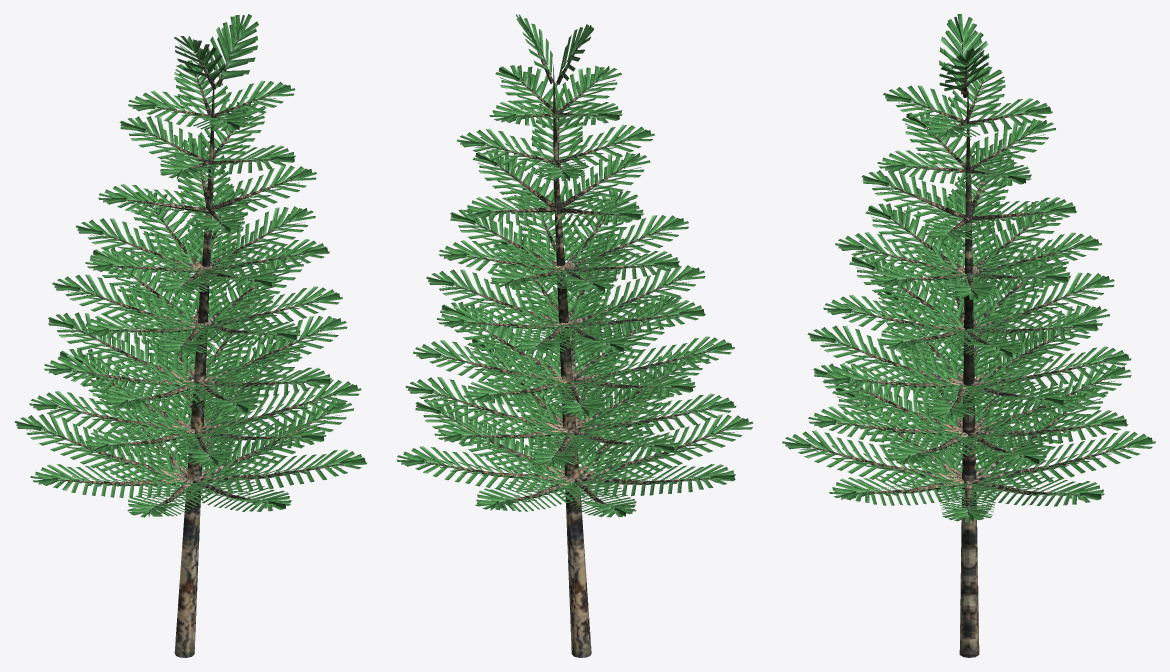
Rendered from tree_05.glb.
3 views of the same model, side by side, from view 1: azimuth 30°, elevation 25°; view 2: azimuth 150°, elevation 25°; view 3: azimuth 270°, elevation 25° (orthographic). The views are drawn at different scales.
Visible parts, largest first — view 1: MainBuilding; view 2: MainBuilding; view 3: MainBuilding.
Boxes of the visible parts, left/top/right/bottom form: MainBuilding: left=14, top=14, right=366, bottom=657; MainBuilding: left=396, top=14, right=753, bottom=657; MainBuilding: left=782, top=14, right=1155, bottom=657.
Size of the model in its own units: 3.32 by 6.21 by 3.3.
Materials: 1 (1 with a texture image).
